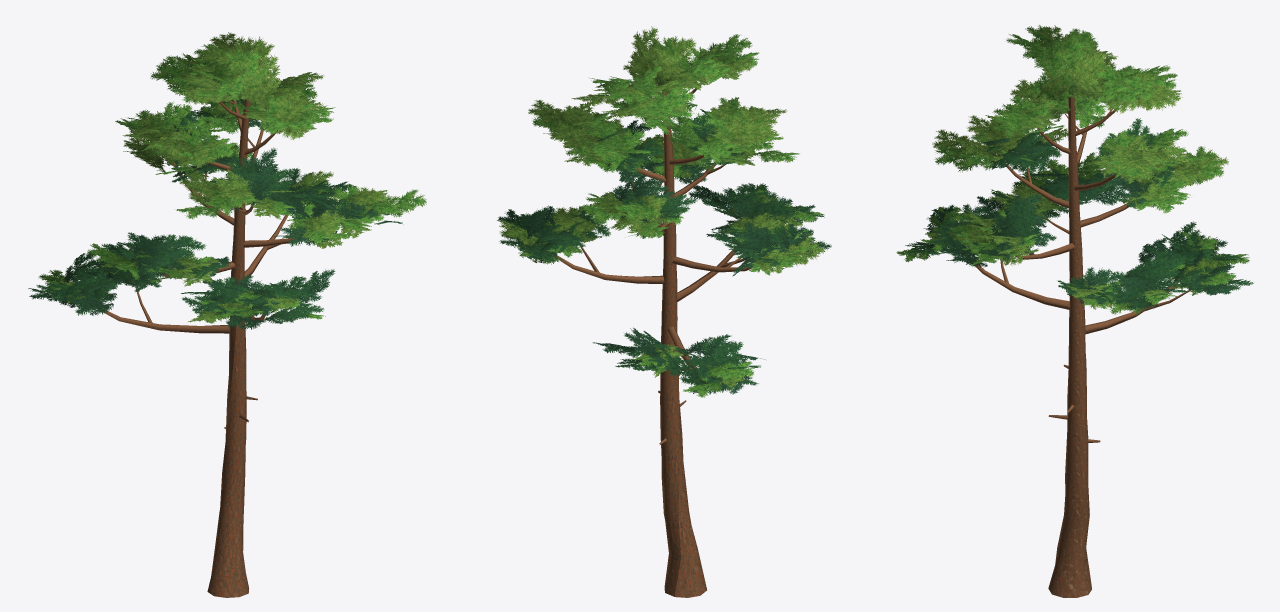
File: kiefer-1.glb
3 views of the same model, side by side, from view 1: azimuth 30°, elevation 25°; view 2: azimuth 150°, elevation 25°; view 3: azimuth 270°, elevation 25° (orthographic). The views are drawn at different scales.
Visible parts, largest first — view 1: kiefer-1; view 2: kiefer-1; view 3: kiefer-1.
Part boxes in pixels (<box>): kiefer-1: <box>28,32,426,597</box>; kiefer-1: <box>497,26,831,597</box>; kiefer-1: <box>896,25,1253,597</box>.
Bounding box in the file's own units: 9.09 × 14.82 × 9.19.
2 materials, 2 textured.
